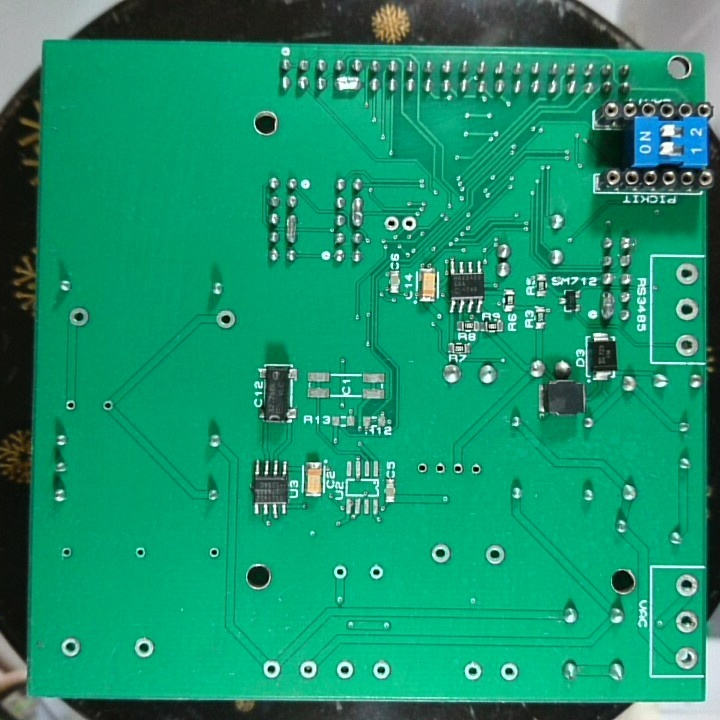F: (674, 608, 700, 638), (673, 332, 701, 359), (673, 643, 699, 671), (673, 572, 699, 599), (131, 636, 158, 661), (674, 260, 697, 289), (483, 543, 508, 569), (673, 297, 699, 322), (213, 305, 236, 333), (58, 635, 83, 660), (66, 303, 90, 329), (332, 655, 358, 679), (428, 540, 452, 565), (462, 658, 485, 683), (297, 657, 319, 683), (370, 656, 393, 680), (498, 660, 521, 684), (259, 658, 284, 679), (399, 211, 418, 237), (366, 560, 385, 583), (382, 212, 399, 237), (57, 543, 77, 563), (448, 458, 467, 478), (467, 458, 484, 480), (431, 459, 449, 479), (99, 397, 117, 416), (330, 562, 349, 580), (205, 544, 222, 564), (131, 543, 148, 562), (414, 458, 431, 476), (62, 397, 78, 415)
P: (331, 73, 362, 95), (599, 287, 616, 323), (283, 212, 300, 246), (349, 193, 364, 229)
